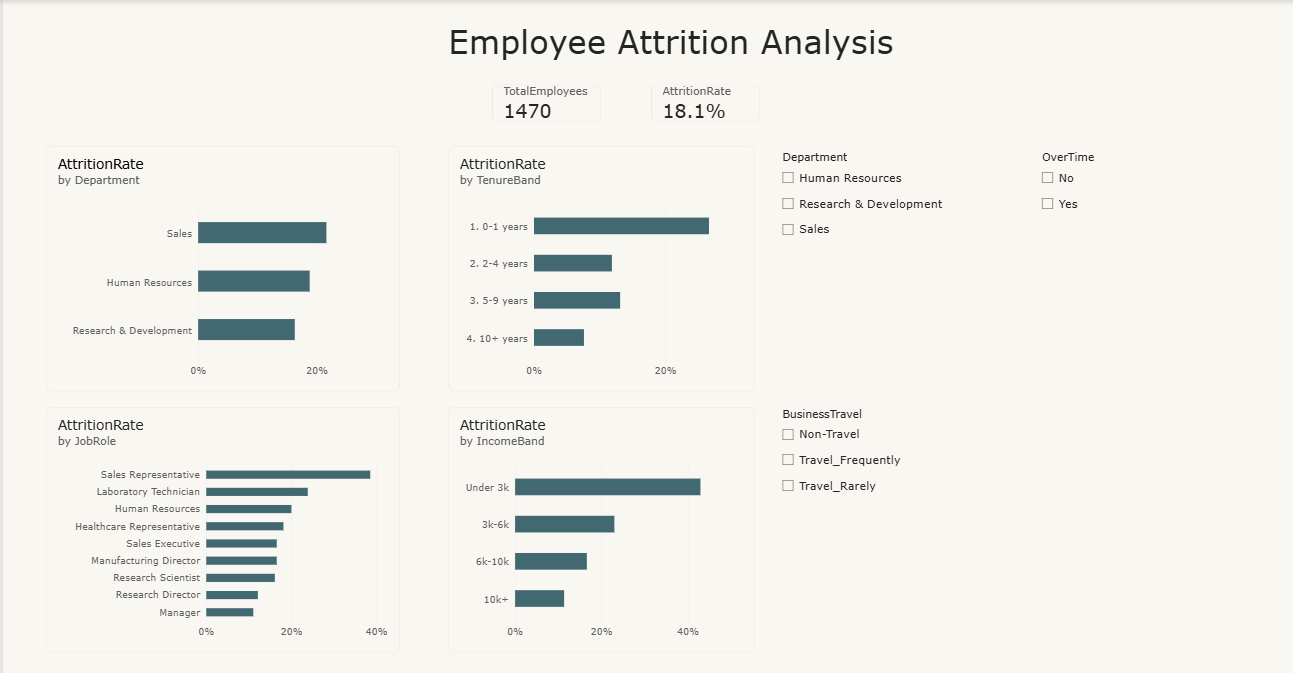

This screenshot's page, from the dashboard's own definition file:
{"tool":"powerbi","page":{"name":"Page 1","canvas":[1920,1080],"ordinal":0},"visuals":[{"type":"cardVisual","fields":{"Data":["employees.TotalEmployees"]},"box":[724,126,161.7,55],"z":1},{"type":"cardVisual","fields":{"Data":["employees.AttritionRate"]},"box":[960,126,161.7,55],"z":2},{"type":"clusteredBarChart","fields":{"Category":["employees.TenureBand"],"Y":["employees.AttritionRate"]},"box":[660,216.7,453.3,363.3],"z":3},{"type":"clusteredBarChart","fields":{"Category":["employees.IncomeBand"],"Y":["employees.AttritionRate"]},"box":[660,603.3,453.3,363.3],"z":4},{"type":"slicer","fields":{"Values":["employees.Department"]},"box":[1146.7,223.3,320,246],"z":5},{"type":"slicer","fields":{"Values":["employees.OverTime"]},"box":[1530,223.3,198,142],"z":6},{"type":"slicer","fields":{"Values":["employees.BusinessTravel"]},"box":[1146.7,603.3,248,142],"z":7},{"type":"textbox","box":[588.9,33.3,784.4,73.3],"z":8},{"type":"clusteredBarChart","title":"AttritionRate","fields":{"Category":["employees.Department"],"Y":["employees.AttritionRate"]},"box":[63.3,216.7,523.3,363.3],"z":9},{"type":"clusteredBarChart","fields":{"Category":["employees.JobRole"],"Y":["employees.AttritionRate"]},"box":[63.3,603.3,523.3,363.3],"z":10}]}

Visuals, with their boxes on the page's 1920x1080 design canvas (x1, y1, x2, y2). These are canvas units, not pixel positions in the 1293x673 screenshot, which may show the page scaled, cropped or inside an application window:
cardVisual - employees.TotalEmployees: [x1=724, y1=126, x2=886, y2=181]
cardVisual - employees.AttritionRate: [x1=960, y1=126, x2=1122, y2=181]
clusteredBarChart - employees.TenureBand x employees.AttritionRate: [x1=660, y1=217, x2=1113, y2=580]
clusteredBarChart - employees.IncomeBand x employees.AttritionRate: [x1=660, y1=603, x2=1113, y2=967]
slicer - employees.Department: [x1=1147, y1=223, x2=1467, y2=469]
slicer - employees.OverTime: [x1=1530, y1=223, x2=1728, y2=365]
slicer - employees.BusinessTravel: [x1=1147, y1=603, x2=1395, y2=745]
textbox: [x1=589, y1=33, x2=1373, y2=107]
"AttritionRate" clusteredBarChart: [x1=63, y1=217, x2=587, y2=580]
clusteredBarChart - employees.JobRole x employees.AttritionRate: [x1=63, y1=603, x2=587, y2=967]
